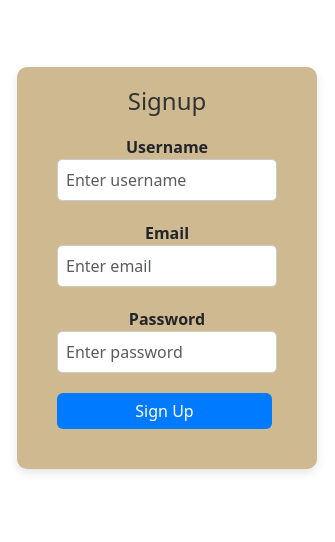
Test: SignUp Component › handles successful form submission
The width and height of the screenshot is (335, 542).
In the field labelled "Username": (167, 180) [57,159,277,201], type "testuser"
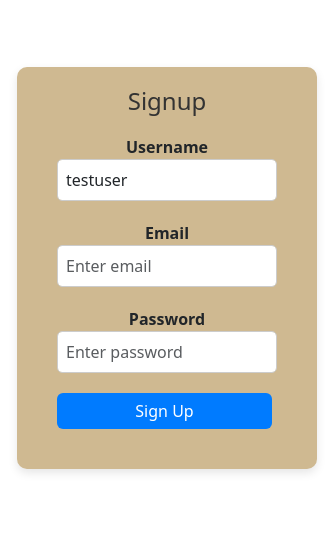
In the field labelled "Email": (167, 266) [57,245,277,287], type "testuser@example.com"
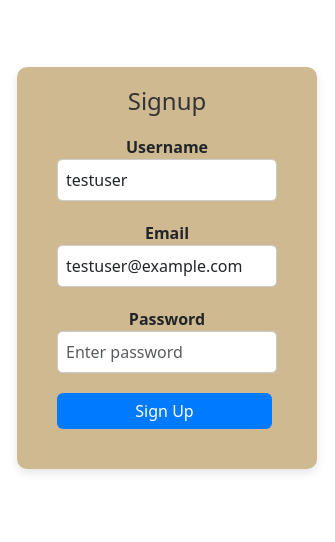
In the password field labelled "Password": (167, 352) [57,331,277,373], type "securepassword"
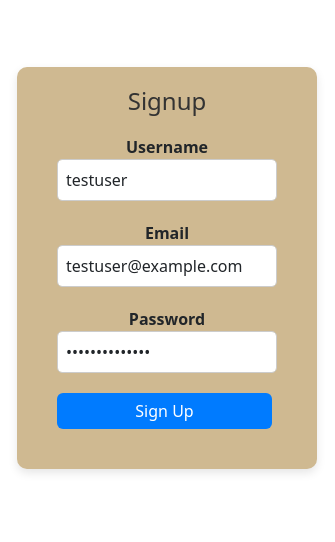
Click the button "Sign Up": (164, 411) [57,393,272,429]
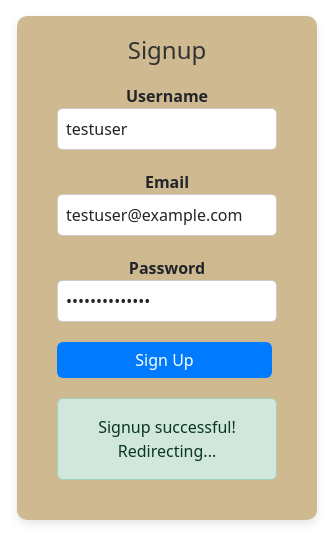
Expected: the text "Signup successful! Redirecting..." is shown, [57,398,277,480]
